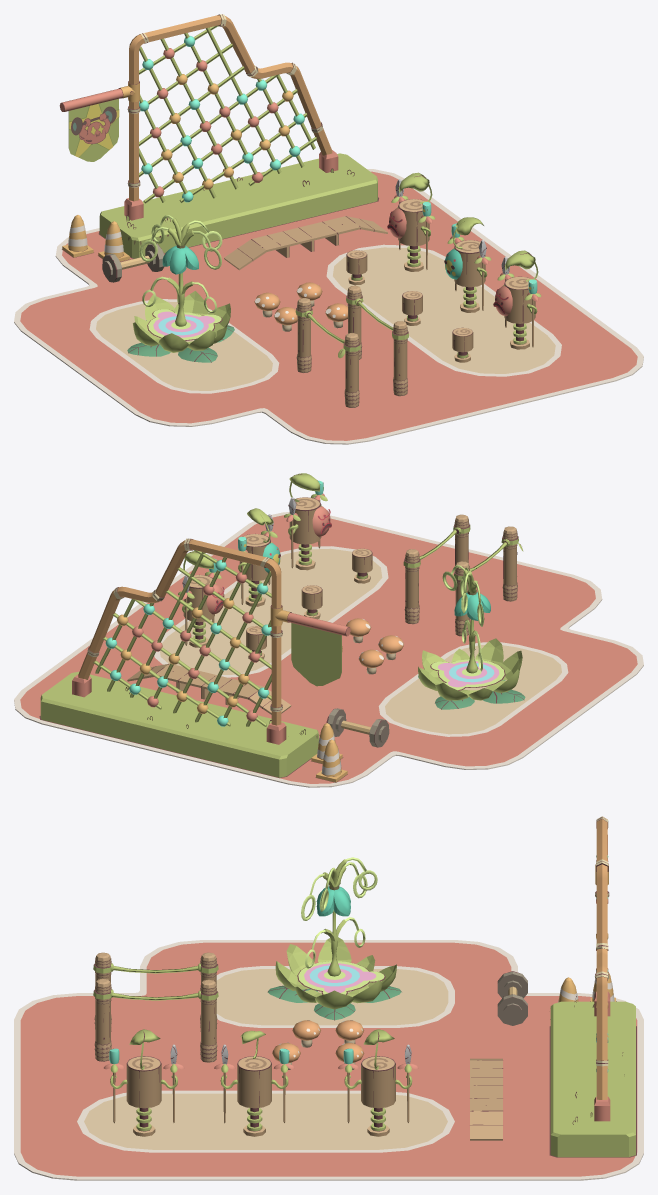
The model's file is Mesh_Home_RF_Training_SM.fbx.
3 renders of one model, top to bottom at view 1: azimuth 30°, elevation 25°; view 2: azimuth 150°, elevation 25°; view 3: azimuth 270°, elevation 25°, orthographic. The views are drawn at different scales.
Visible parts, largest first — view 1: Mesh_Home_RF_Training; view 2: Mesh_Home_RF_Training; view 3: Mesh_Home_RF_Training.
Part boxes in pixels (x1,y1,x2,y2): Mesh_Home_RF_Training: (14,14,643,444); Mesh_Home_RF_Training: (14,473,643,787); Mesh_Home_RF_Training: (14,816,643,1180).
Bounding box in the file's own units: 900 × 394 × 1000.
